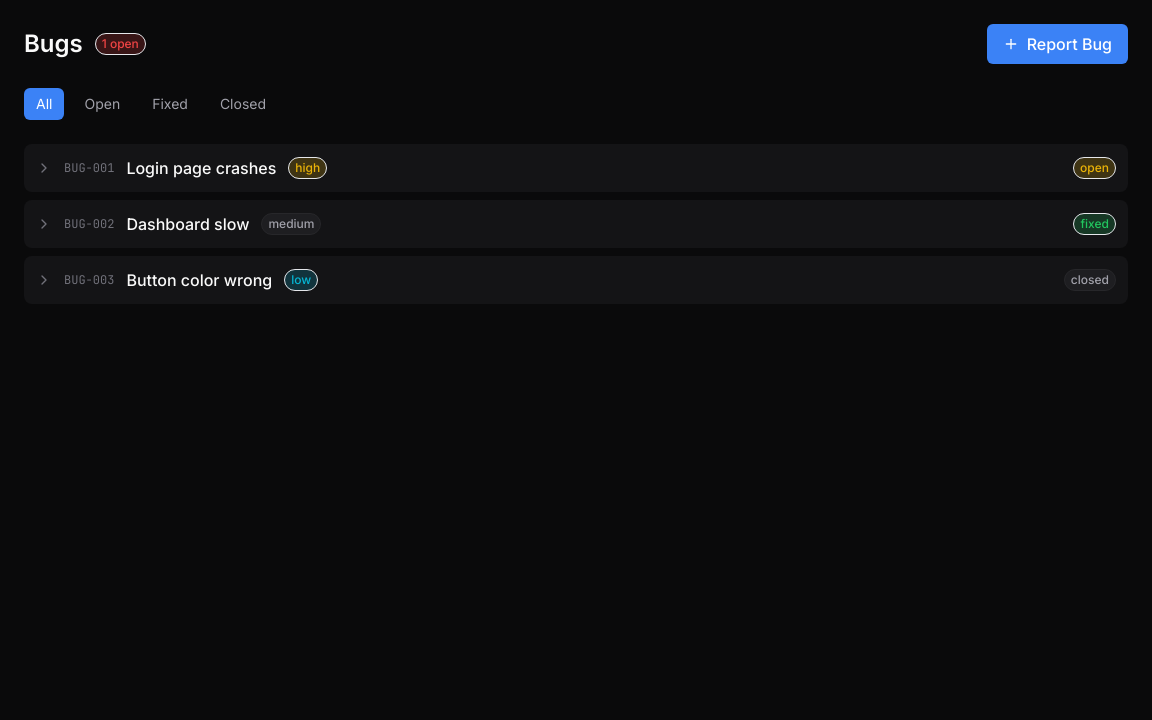
BugsPage › Report Bug button opens form
This screenshot has width=1152, height=720.
Click the button with test id "report-bug-btn" at (1057, 44), box [987,24,1128,64]
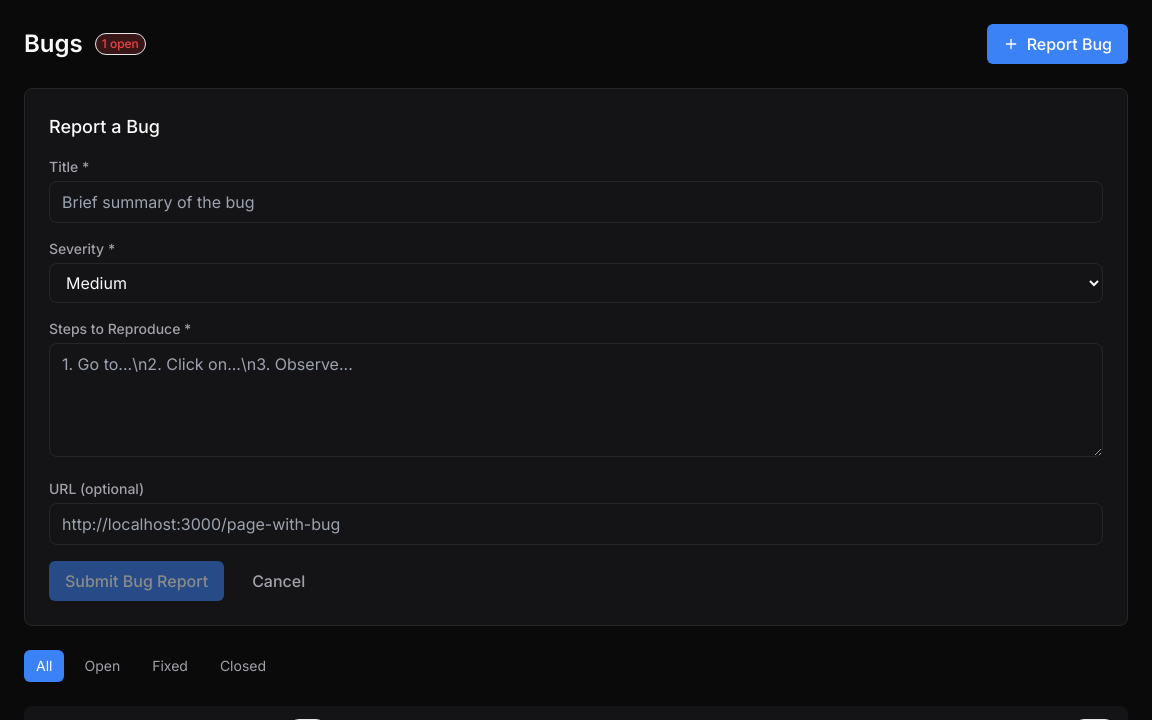
Now the element with test id "bug-form" is shown
